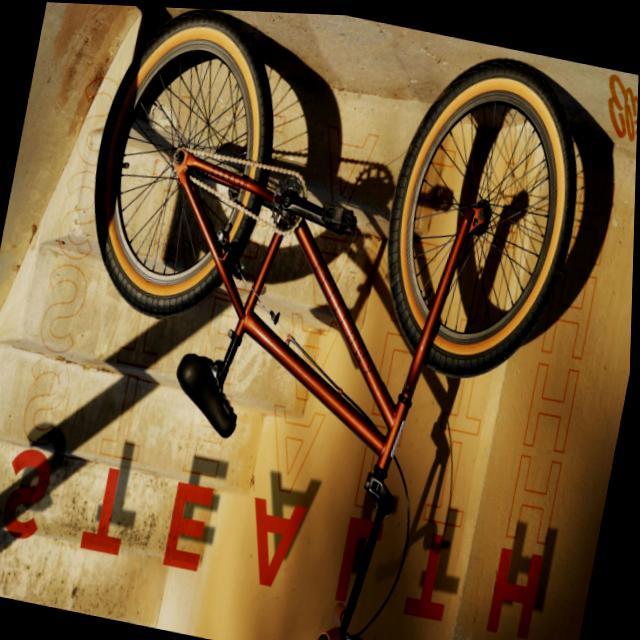bmx-bike: (17, 1, 605, 640)
